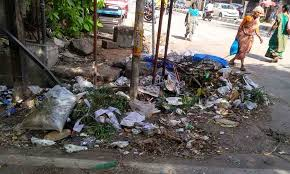garbage: (30, 69, 241, 136), (141, 54, 227, 120)
